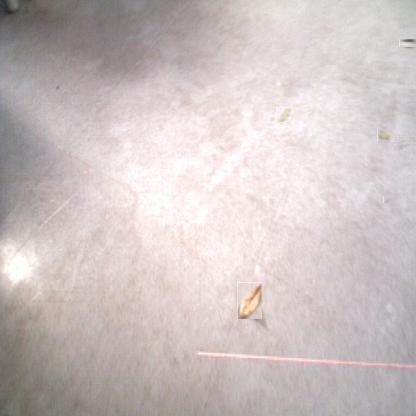dirty: (237, 282, 262, 319), (276, 107, 291, 122), (377, 129, 390, 141), (399, 39, 416, 47)
mark: (396, 139, 410, 153), (383, 195, 392, 204), (55, 83, 61, 91), (268, 117, 275, 123)
